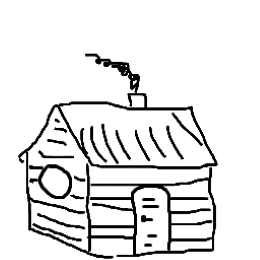bottom_placed_house: (1, 1, 260, 260)
door: (127, 179, 176, 259)
open_window: (36, 160, 77, 204)
roof: (15, 90, 234, 174)
smoking_chimney: (83, 44, 157, 117)
wall: (81, 154, 219, 258)
